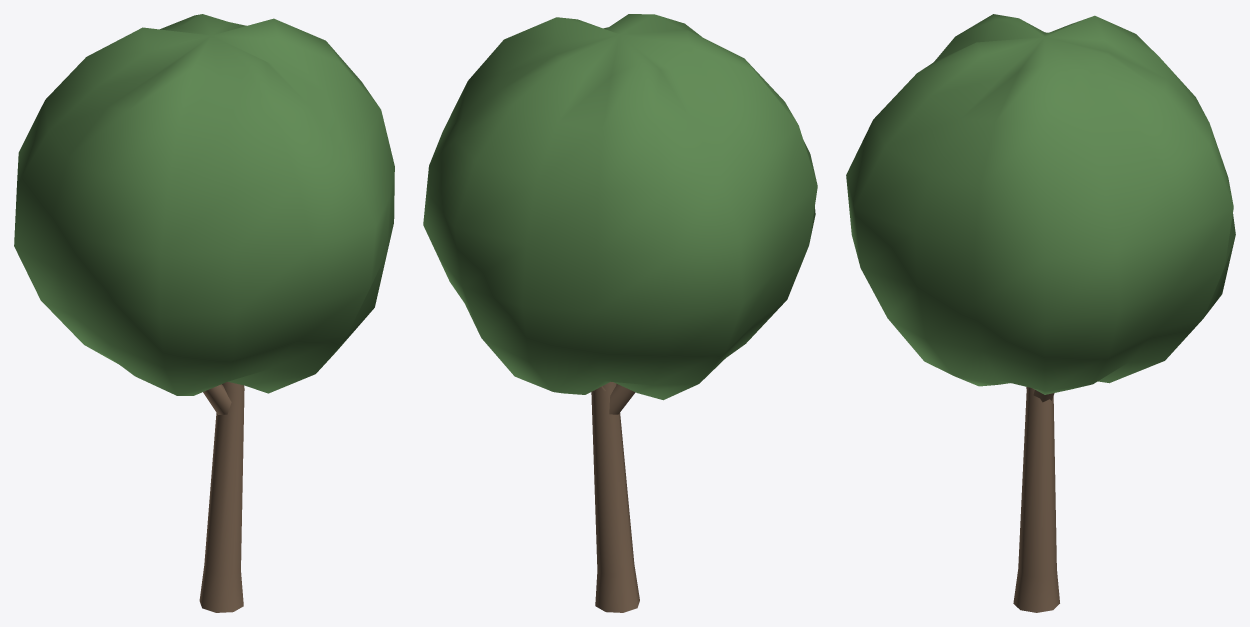
The model's file is tree_street.glb.
3 views of the same model, side by side, from view 1: azimuth 30°, elevation 25°; view 2: azimuth 150°, elevation 25°; view 3: azimuth 270°, elevation 25° (orthographic).
Visible parts, largest first — view 1: tree_street; view 2: tree_street; view 3: tree_street.
Boxes of the visible parts, x1,y1,x2,y2 form: tree_street: (14, 14, 394, 612); tree_street: (423, 14, 817, 612); tree_street: (846, 14, 1235, 612).
Size of the model in its own units: 5 by 8 by 5.
